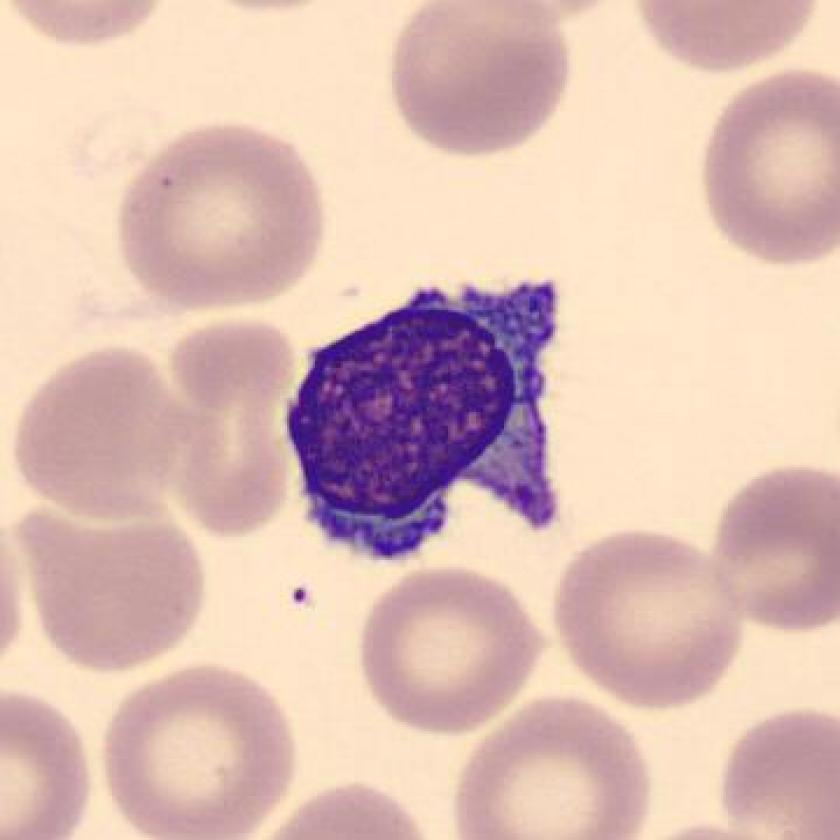lymphocyte: (272, 269, 584, 568)
